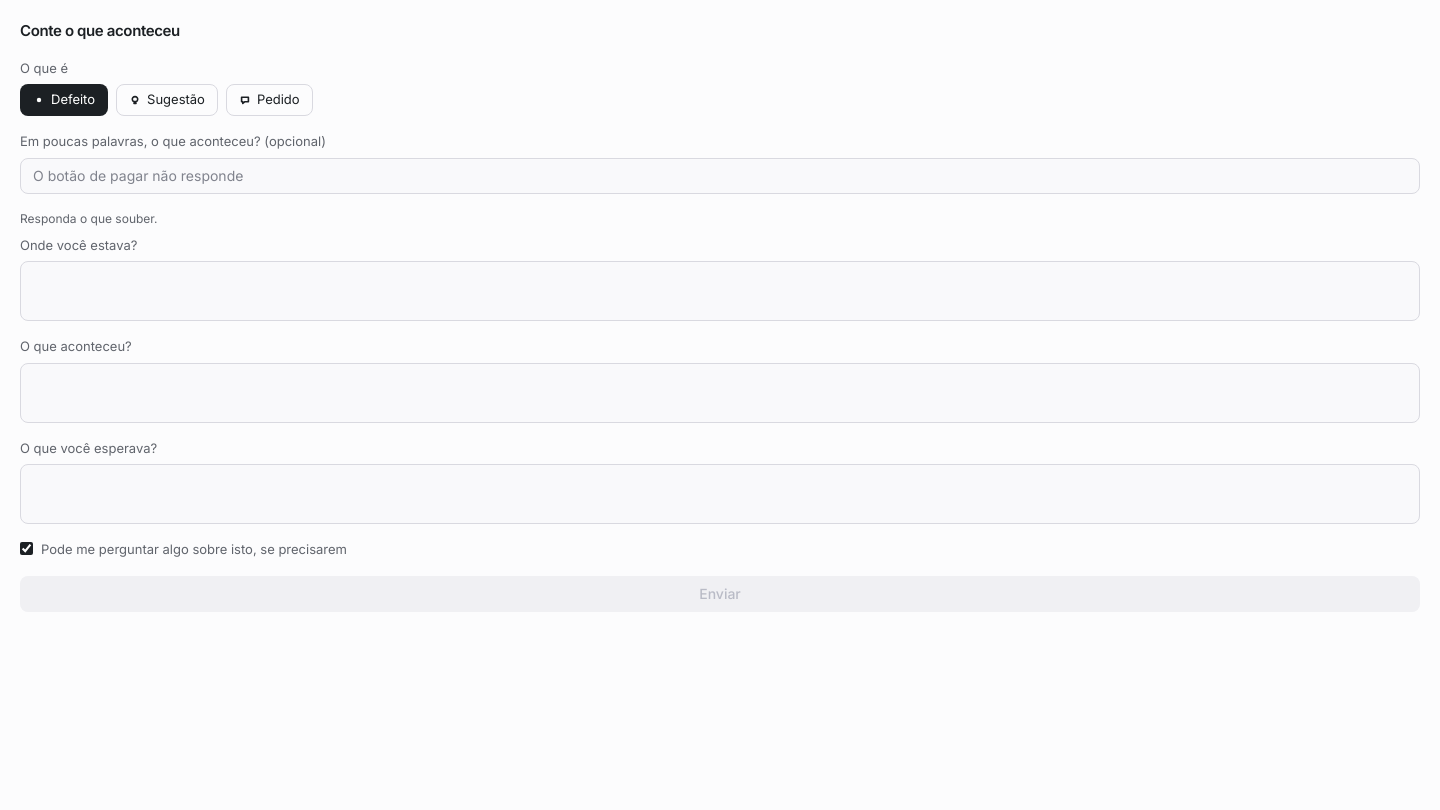
Test: o formulario de cada tipo › o tipo so com a caixa mostra a caixa, com o texto do tipo dentro, e nenhuma pergunta
The image size is (1440, 810).
Click the button "Sugestão". click: (167,100)
box: [116,84,218,116]
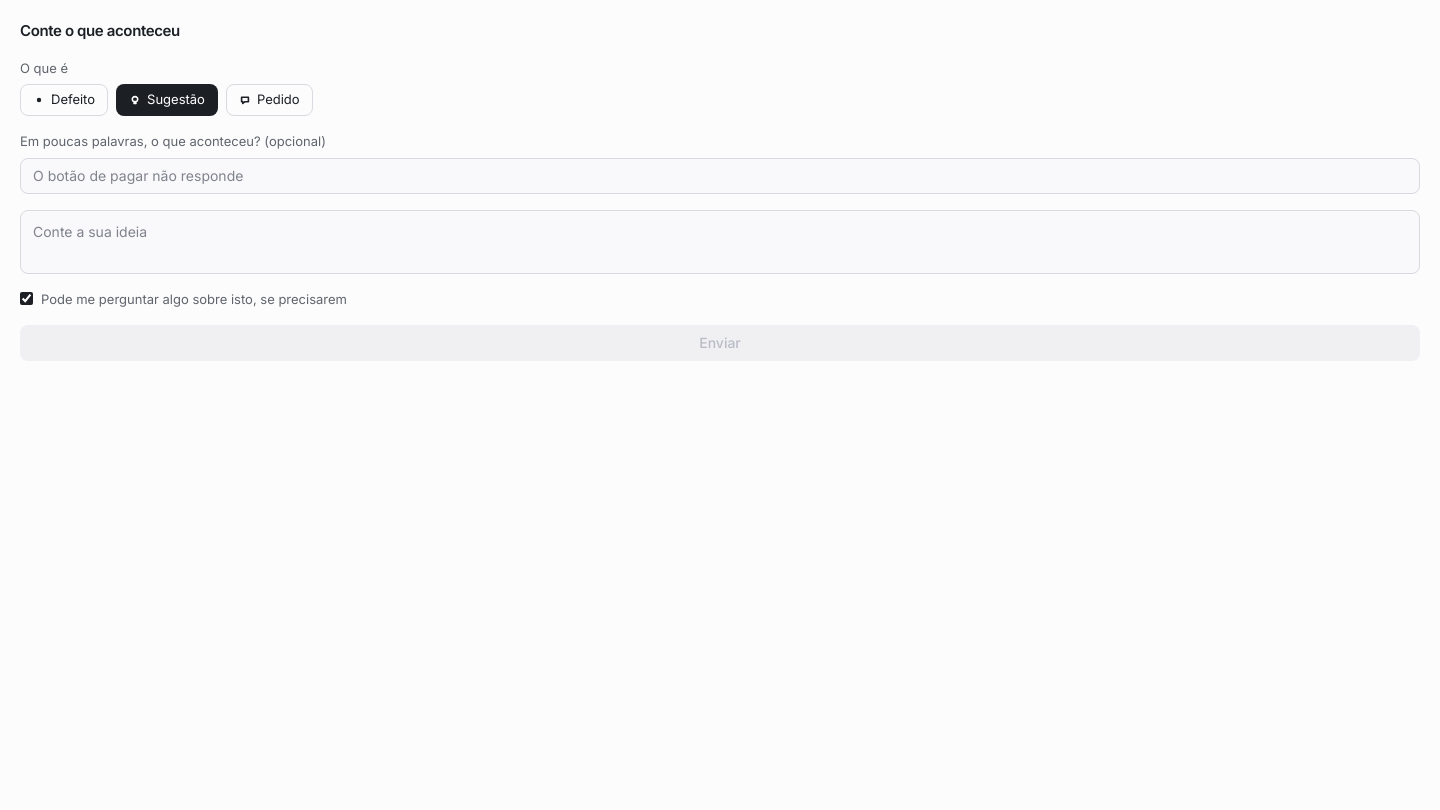
Result: the text "Responda o que souber." is gone
